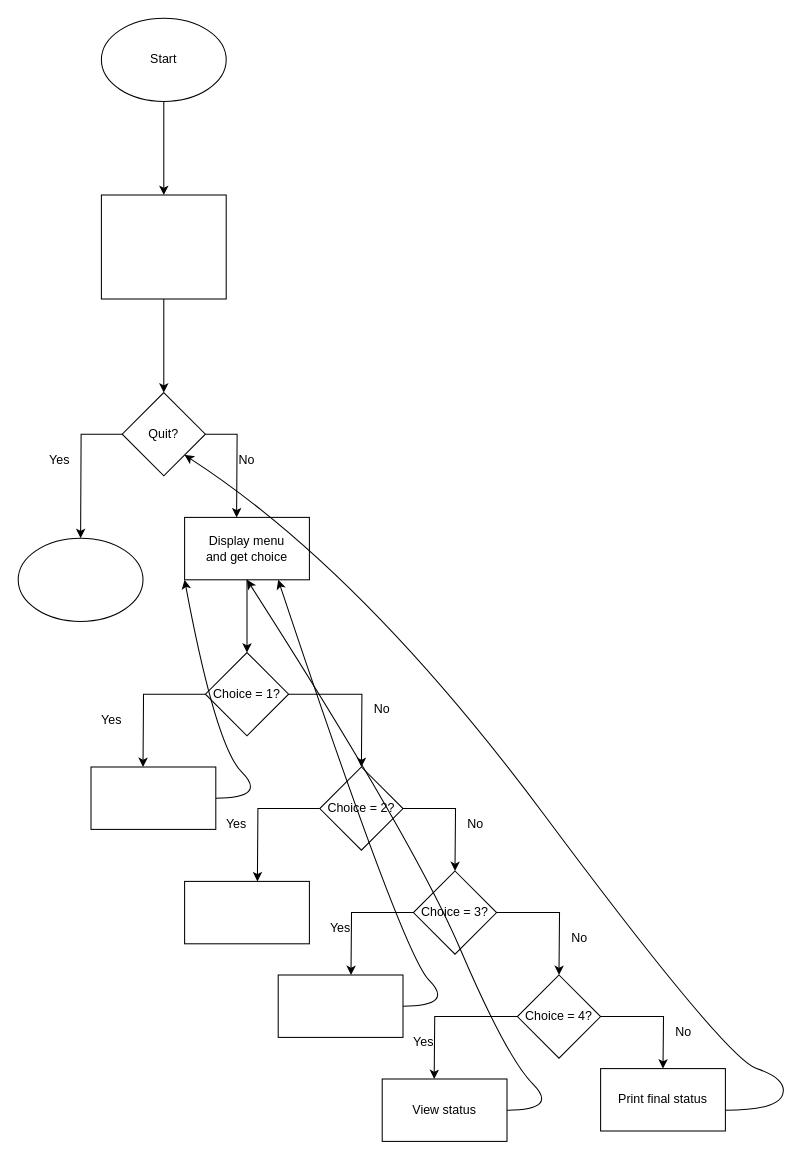
Image size: 802x1160. Some labels were removed from this diagram. Each missing label, with the centre of its shape:
"Buy food" goes at pixel 153 797.
"End" goes at pixel 80 579.
"Hunt food" goes at pixel 246 912.
"Initialize: gold = 100 food = 0 day = 1 roll_count = 0" goes at pixel 163 246.
"Trade with caravan" goes at pixel 340 1005.
